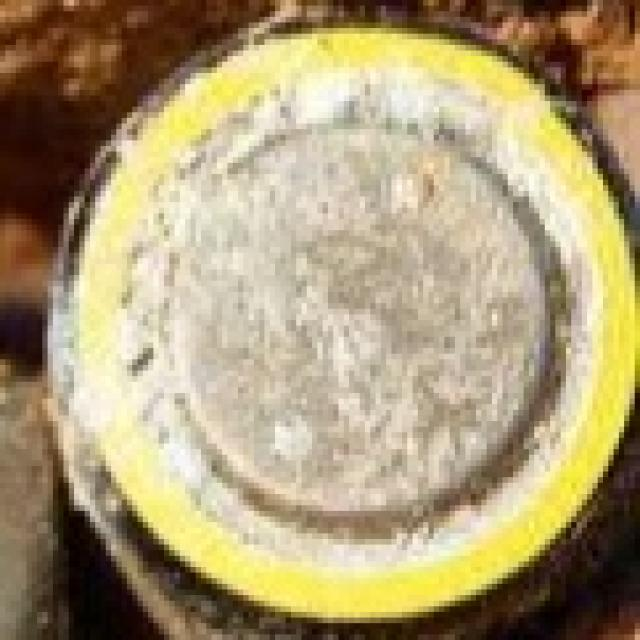battery: (46, 0, 640, 592)
